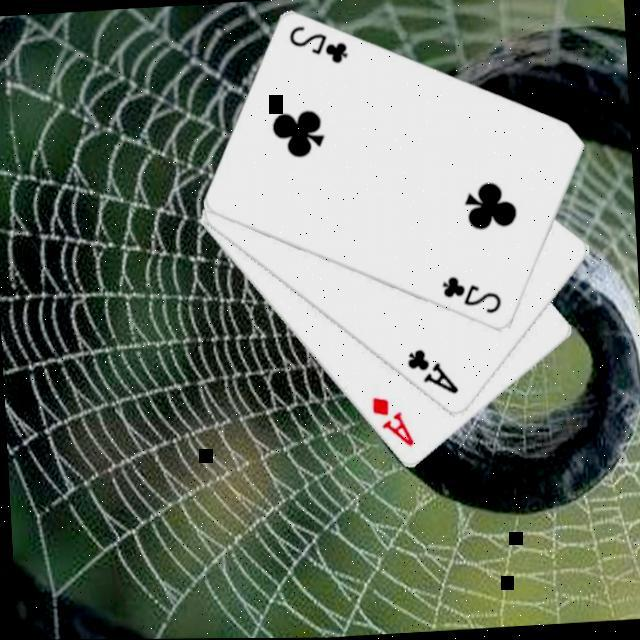2C: (286, 22, 353, 72), (440, 273, 507, 322)
AC: (404, 346, 465, 403)
AD: (368, 395, 419, 455)
